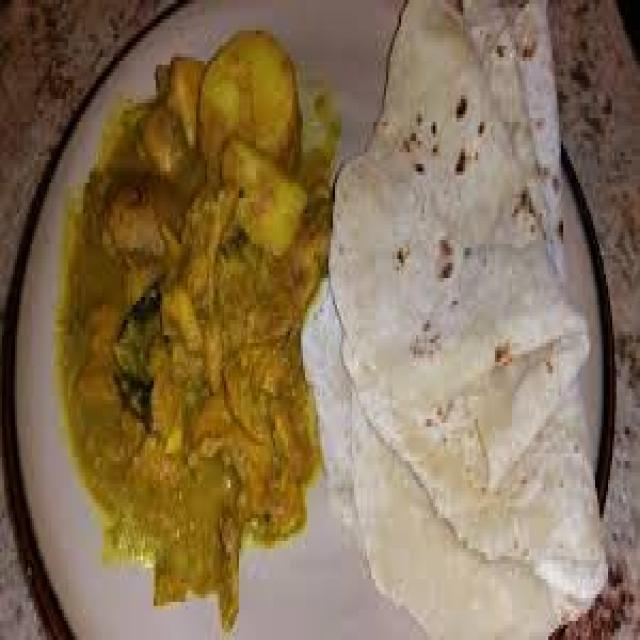ROTI: (329, 0, 606, 636)
